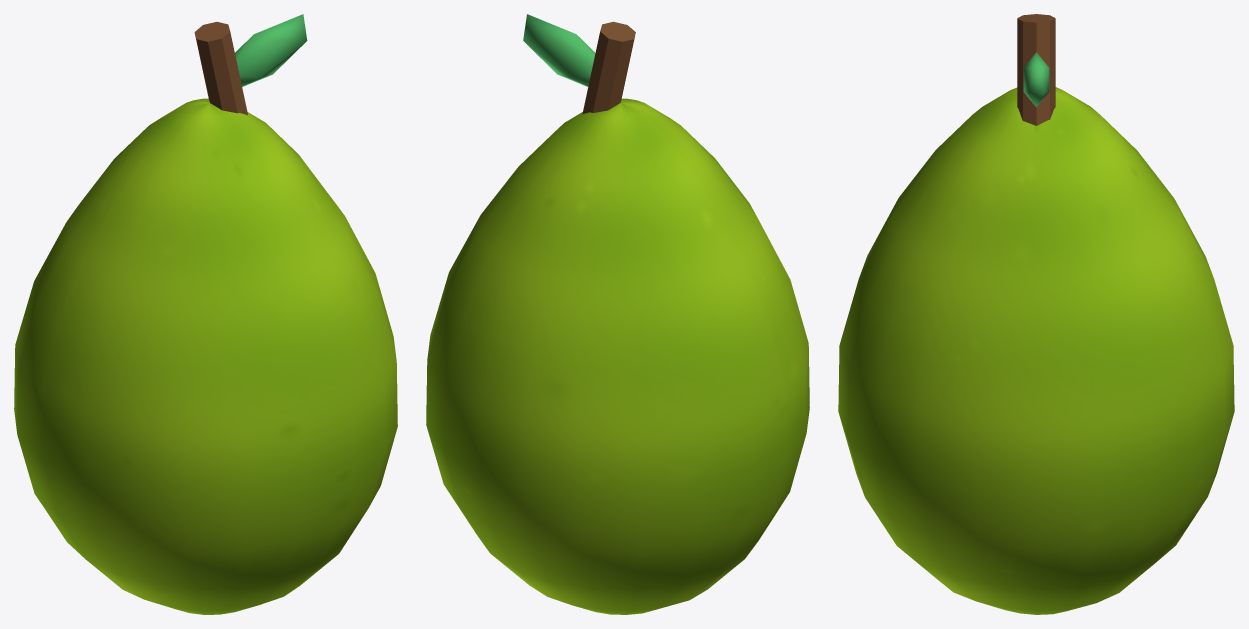
Rendered from pear.glb.
The picture shows the model from 3 angles, left to right: view 1: azimuth 30°, elevation 25°; view 2: azimuth 150°, elevation 25°; view 3: azimuth 270°, elevation 25°; orthographic projection. The views are drawn at different scales.
Parts seen in each view (by area): view 1: Pear_Body, Pear_Stem, Pear_Leaf; view 2: Pear_Body, Pear_Stem, Pear_Leaf; view 3: Pear_Body, Pear_Stem, Pear_Leaf.
Boxes of the visible parts, box(x1,y1,x2,y2) form: Pear_Body: box(14, 98, 397, 614); Pear_Stem: box(194, 22, 247, 115); Pear_Leaf: box(235, 14, 307, 86); Pear_Body: box(426, 98, 809, 614); Pear_Stem: box(582, 21, 635, 114); Pear_Leaf: box(523, 14, 595, 86); Pear_Body: box(838, 87, 1234, 614); Pear_Stem: box(1017, 14, 1055, 125); Pear_Leaf: box(1023, 52, 1049, 107).
Size of the model in its own units: 0.9252 by 1.52 by 0.9252.
Materials: 3 (1 with a texture image).
